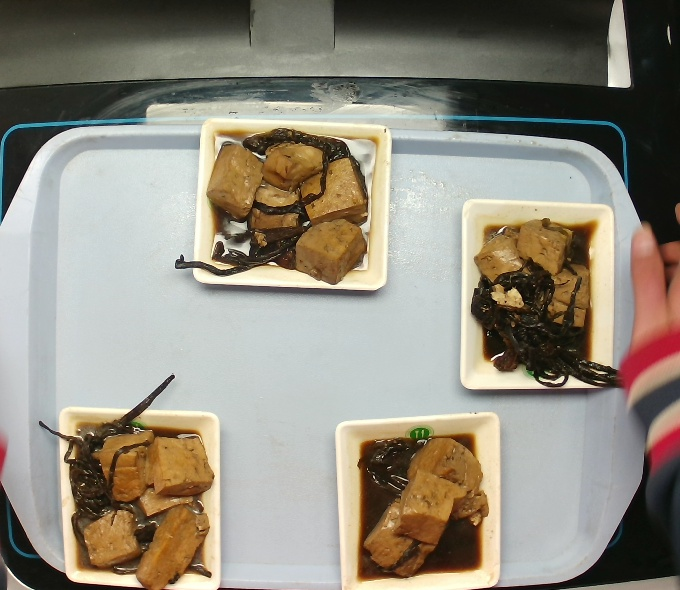wcq-CaiLuDouFu: (192, 122, 379, 284), (343, 410, 503, 589), (58, 408, 210, 577), (471, 212, 600, 381)
